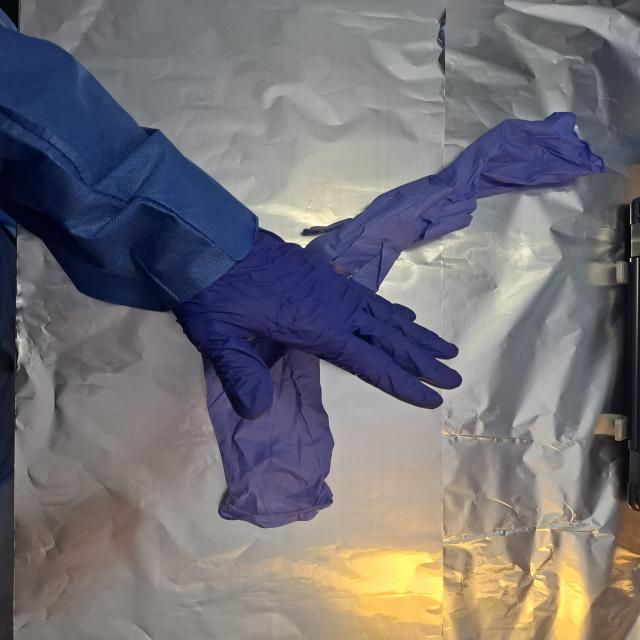glove_on: (171, 225, 466, 422)
